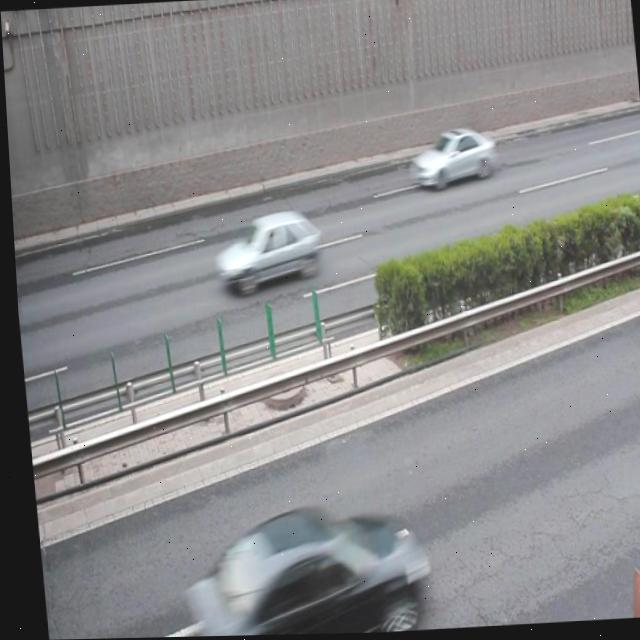car: (174, 498, 418, 637), (206, 207, 319, 294), (404, 123, 496, 192)
